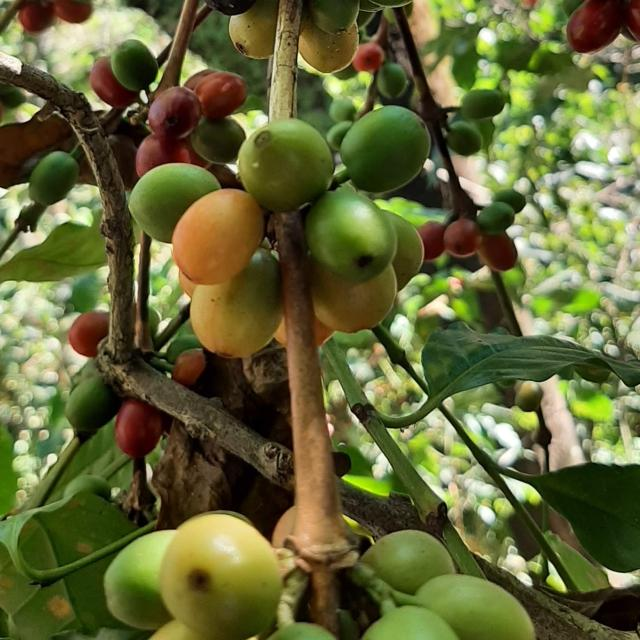green: (238, 118, 334, 212), (306, 186, 398, 283), (416, 576, 536, 640), (128, 162, 220, 243), (103, 531, 176, 632), (361, 531, 456, 595), (362, 607, 460, 640)
red: (171, 189, 264, 284)
yellow: (159, 515, 281, 640), (190, 248, 282, 358), (310, 260, 397, 333), (384, 211, 425, 291)
